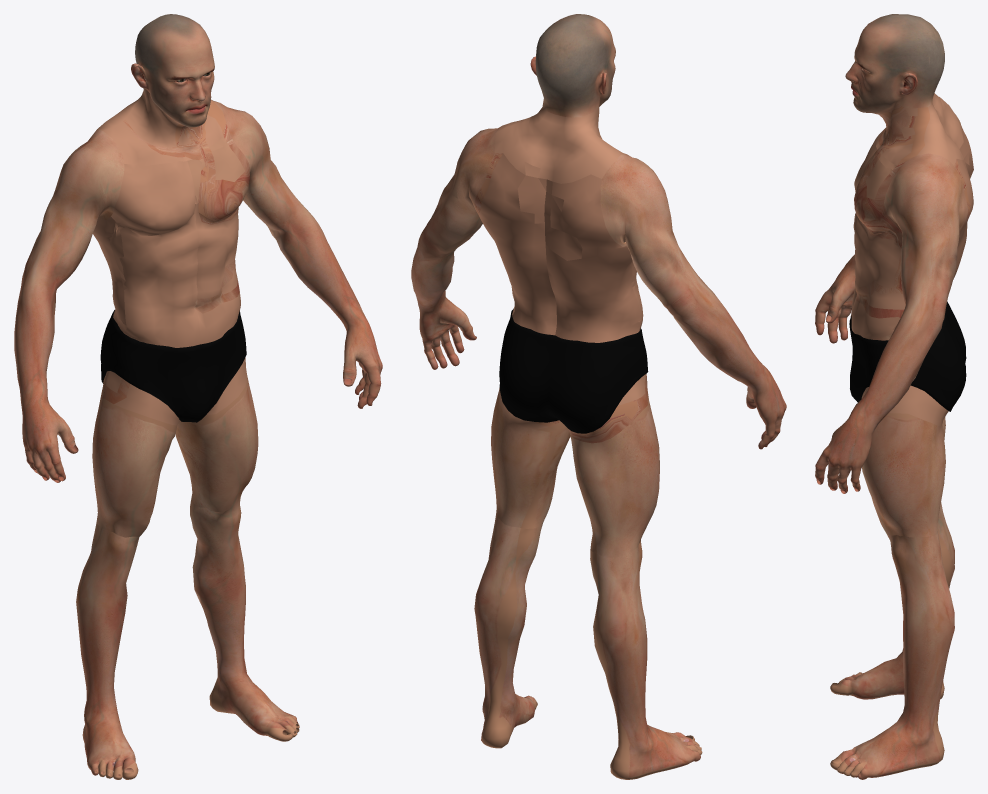
The model's file is alaa2.glb.
3 views of the same model, side by side, from view 1: azimuth 30°, elevation 25°; view 2: azimuth 150°, elevation 25°; view 3: azimuth 270°, elevation 25° (orthographic). The views are drawn at different scales.
Visible parts, largest first — view 1: Arm.r, Arm.l, Leg.l, Leg.r, Thigh.r, Belly.r, pelvis, Thigh.l, Head, Neck, chest.r, Belly.l (+2 smaller); view 2: Arm.r, Back.r, pelvis, Leg.r, Thigh.r, Leg.l, Arm.l, Back.l, Thigh.l, Head, Neck; view 3: Arm.l, Leg.l, Thigh.l, Head, Belly.l, pelvis, Neck, Leg.r, chest.l, Arm.r, Back.l, Back.r.
Boxes of the visible parts, bbox=[...] form: Arm.r: bbox=[14, 129, 124, 482]; Arm.l: bbox=[220, 103, 382, 408]; Leg.l: bbox=[190, 497, 299, 741]; Leg.r: bbox=[76, 523, 140, 779]; Thigh.r: bbox=[92, 371, 180, 537]; Belly.r: bbox=[109, 195, 200, 347]; pelvis: bbox=[100, 310, 246, 422]; Thigh.l: bbox=[175, 357, 258, 512]; Head: bbox=[131, 14, 214, 127]; Neck: bbox=[97, 95, 228, 166]; chest.r: bbox=[111, 161, 195, 235]; Belly.l: bbox=[195, 196, 240, 344]; Arm.r: bbox=[600, 153, 786, 449]; Back.r: bbox=[544, 174, 641, 342]; pelvis: bbox=[499, 308, 648, 433]; Leg.r: bbox=[590, 541, 702, 779]; Thigh.r: bbox=[569, 374, 659, 557]; Leg.l: bbox=[474, 513, 544, 748]; Arm.l: bbox=[411, 126, 501, 369]; Back.l: bbox=[474, 153, 556, 335]; Thigh.l: bbox=[491, 388, 570, 528]; Head: bbox=[530, 14, 615, 117]; Neck: bbox=[494, 101, 624, 183]; Arm.l: bbox=[815, 153, 968, 493]; Leg.l: bbox=[830, 532, 954, 779]; Thigh.l: bbox=[861, 385, 948, 537]; Head: bbox=[845, 14, 944, 114]; Belly.l: bbox=[851, 215, 905, 340]; pelvis: bbox=[849, 301, 966, 411]; Neck: bbox=[876, 93, 963, 166]; Leg.r: bbox=[830, 502, 954, 699]; chest.l: bbox=[854, 151, 900, 234]; Arm.r: bbox=[815, 114, 960, 343]; Back.l: bbox=[953, 159, 973, 279]; Back.r: bbox=[959, 124, 973, 178].
Size of the model in its own units: 88.22 by 173 by 34.87.
Materials: 22 (22 with a texture image).
